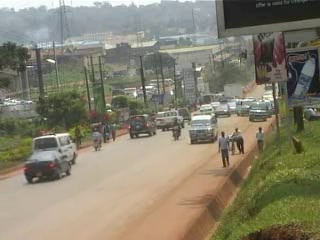Car: (21, 145, 74, 184), (125, 110, 158, 139), (214, 102, 232, 118), (176, 106, 192, 123), (196, 103, 214, 116), (226, 99, 240, 114), (155, 110, 165, 129), (208, 98, 220, 110)
Motorcycle: (89, 129, 102, 152), (169, 117, 181, 141)
